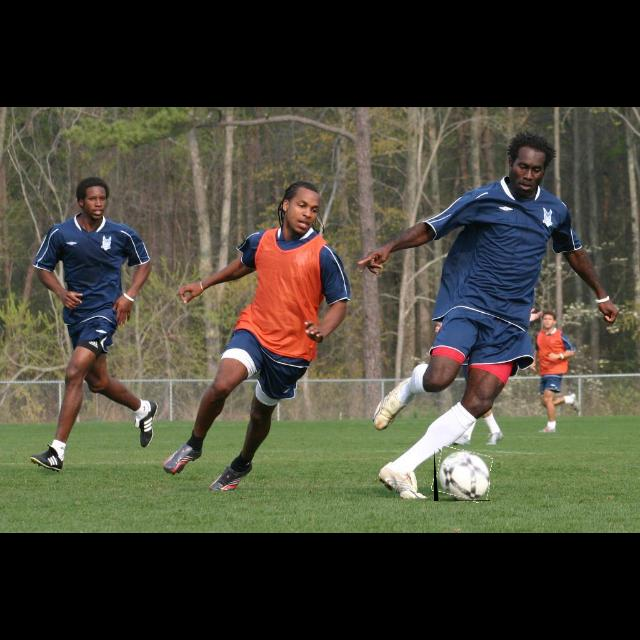Football: (434, 449, 490, 501)
